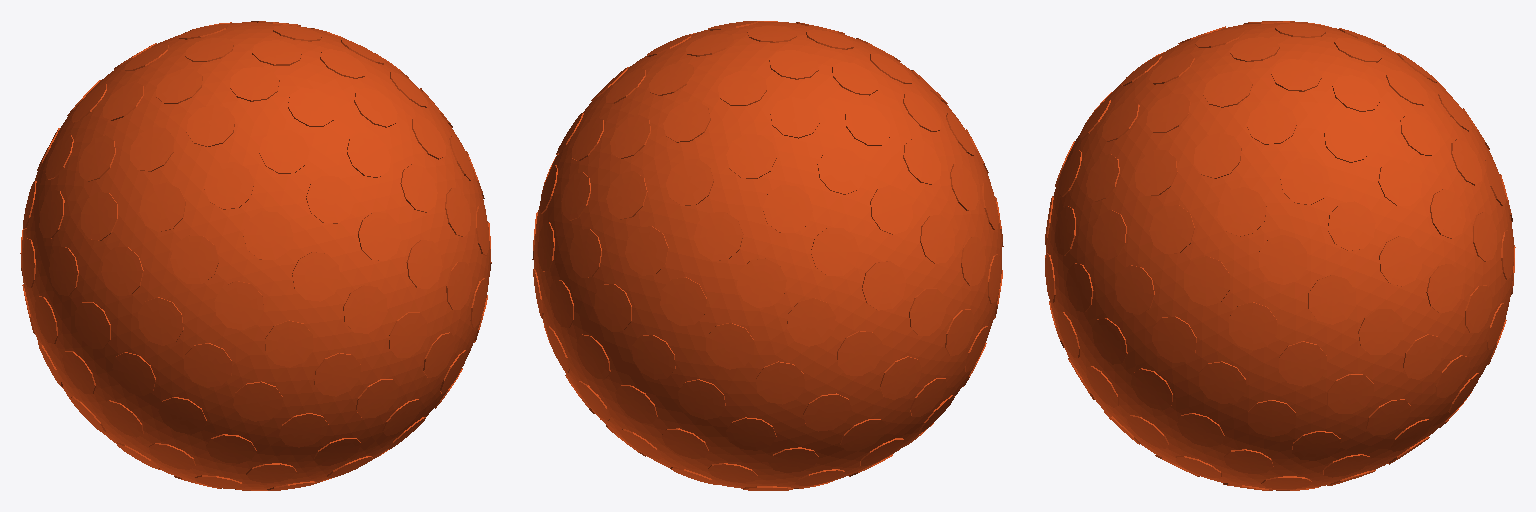
robot.urdf — cb_spikyball_spiky_flat:
<?xml version="1.0"?>
<!-- A22 textured ball (dome, 150 features, h 0.05 mm), outer R 24.0 mm, 30.0 g. Generated by FoundationTouch tools/contactbench/spikyball_assets.py (A22) -->
<robot name="cb_spikyball_spiky_flat">
  <material name="c"><color rgba="0.85 0.35 0.15 1.0"/></material>
  <link name="object">
    <visual><origin xyz="0 0 0" rpy="0 0 0"/><geometry><mesh filename="spikyball_spiky_flat.obj" scale="1 1 1"/></geometry><material name="c"/></visual>
    <collision><origin xyz="0 0 0" rpy="0 0 0"/><geometry><sphere radius="0.023950"/></geometry></collision>
    <collision><origin xyz="0 0 0" rpy="0 0 0"/><geometry><mesh filename="spike_000.obj" scale="1 1 1"/></geometry></collision>
    <collision><origin xyz="0 0 0" rpy="0 0 0"/><geometry><mesh filename="spike_001.obj" scale="1 1 1"/></geometry></collision>
    <collision><origin xyz="0 0 0" rpy="0 0 0"/><geometry><mesh filename="spike_002.obj" scale="1 1 1"/></geometry></collision>
    <collision><origin xyz="0 0 0" rpy="0 0 0"/><geometry><mesh filename="spike_003.obj" scale="1 1 1"/></geometry></collision>
    <collision><origin xyz="0 0 0" rpy="0 0 0"/><geometry><mesh filename="spike_004.obj" scale="1 1 1"/></geometry></collision>
    <collision><origin xyz="0 0 0" rpy="0 0 0"/><geometry><mesh filename="spike_005.obj" scale="1 1 1"/></geometry></collision>
    <collision><origin xyz="0 0 0" rpy="0 0 0"/><geometry><mesh filename="spike_006.obj" scale="1 1 1"/></geometry></collision>
    <collision><origin xyz="0 0 0" rpy="0 0 0"/><geometry><mesh filename="spike_007.obj" scale="1 1 1"/></geometry></collision>
    <collision><origin xyz="0 0 0" rpy="0 0 0"/><geometry><mesh filename="spike_008.obj" scale="1 1 1"/></geometry></collision>
    <collision><origin xyz="0 0 0" rpy="0 0 0"/><geometry><mesh filename="spike_009.obj" scale="1 1 1"/></geometry></collision>
    <collision><origin xyz="0 0 0" rpy="0 0 0"/><geometry><mesh filename="spike_010.obj" scale="1 1 1"/></geometry></collision>
    <collision><origin xyz="0 0 0" rpy="0 0 0"/><geometry><mesh filename="spike_011.obj" scale="1 1 1"/></geometry></collision>
    <collision><origin xyz="0 0 0" rpy="0 0 0"/><geometry><mesh filename="spike_012.obj" scale="1 1 1"/></geometry></collision>
    <collision><origin xyz="0 0 0" rpy="0 0 0"/><geometry><mesh filename="spike_013.obj" scale="1 1 1"/></geometry></collision>
    <collision><origin xyz="0 0 0" rpy="0 0 0"/><geometry><mesh filename="spike_014.obj" scale="1 1 1"/></geometry></collision>
    <collision><origin xyz="0 0 0" rpy="0 0 0"/><geometry><mesh filename="spike_015.obj" scale="1 1 1"/></geometry></collision>
    <collision><origin xyz="0 0 0" rpy="0 0 0"/><geometry><mesh filename="spike_016.obj" scale="1 1 1"/></geometry></collision>
    <collision><origin xyz="0 0 0" rpy="0 0 0"/><geometry><mesh filename="spike_017.obj" scale="1 1 1"/></geometry></collision>
    <collision><origin xyz="0 0 0" rpy="0 0 0"/><geometry><mesh filename="spike_018.obj" scale="1 1 1"/></geometry></collision>
    <collision><origin xyz="0 0 0" rpy="0 0 0"/><geometry><mesh filename="spike_019.obj" scale="1 1 1"/></geometry></collision>
    <collision><origin xyz="0 0 0" rpy="0 0 0"/><geometry><mesh filename="spike_020.obj" scale="1 1 1"/></geometry></collision>
    <collision><origin xyz="0 0 0" rpy="0 0 0"/><geometry><mesh filename="spike_021.obj" scale="1 1 1"/></geometry></collision>
    <collision><origin xyz="0 0 0" rpy="0 0 0"/><geometry><mesh filename="spike_022.obj" scale="1 1 1"/></geometry></collision>
    <collision><origin xyz="0 0 0" rpy="0 0 0"/><geometry><mesh filename="spike_023.obj" scale="1 1 1"/></geometry></collision>
    <collision><origin xyz="0 0 0" rpy="0 0 0"/><geometry><mesh filename="spike_024.obj" scale="1 1 1"/></geometry></collision>
    <collision><origin xyz="0 0 0" rpy="0 0 0"/><geometry><mesh filename="spike_025.obj" scale="1 1 1"/></geometry></collision>
    <collision><origin xyz="0 0 0" rpy="0 0 0"/><geometry><mesh filename="spike_026.obj" scale="1 1 1"/></geometry></collision>
    <collision><origin xyz="0 0 0" rpy="0 0 0"/><geometry><mesh filename="spike_027.obj" scale="1 1 1"/></geometry></collision>
    <collision><origin xyz="0 0 0" rpy="0 0 0"/><geometry><mesh filename="spike_028.obj" scale="1 1 1"/></geometry></collision>
    <collision><origin xyz="0 0 0" rpy="0 0 0"/><geometry><mesh filename="spike_029.obj" scale="1 1 1"/></geometry></collision>
    <collision><origin xyz="0 0 0" rpy="0 0 0"/><geometry><mesh filename="spike_030.obj" scale="1 1 1"/></geometry></collision>
    <collision><origin xyz="0 0 0" rpy="0 0 0"/><geometry><mesh filename="spike_031.obj" scale="1 1 1"/></geometry></collision>
    <collision><origin xyz="0 0 0" rpy="0 0 0"/><geometry><mesh filename="spike_032.obj" scale="1 1 1"/></geometry></collision>
    <collision><origin xyz="0 0 0" rpy="0 0 0"/><geometry><mesh filename="spike_033.obj" scale="1 1 1"/></geometry></collision>
    <collision><origin xyz="0 0 0" rpy="0 0 0"/><geometry><mesh filename="spike_034.obj" scale="1 1 1"/></geometry></collision>
    <collision><origin xyz="0 0 0" rpy="0 0 0"/><geometry><mesh filename="spike_035.obj" scale="1 1 1"/></geometry></collision>
    <collision><origin xyz="0 0 0" rpy="0 0 0"/><geometry><mesh filename="spike_036.obj" scale="1 1 1"/></geometry></collision>
    <collision><origin xyz="0 0 0" rpy="0 0 0"/><geometry><mesh filename="spike_037.obj" scale="1 1 1"/></geometry></collision>
    <collision><origin xyz="0 0 0" rpy="0 0 0"/><geometry><mesh filename="spike_038.obj" scale="1 1 1"/></geometry></collision>
    <collision><origin xyz="0 0 0" rpy="0 0 0"/><geometry><mesh filename="spike_039.obj" scale="1 1 1"/></geometry></collision>
    <collision><origin xyz="0 0 0" rpy="0 0 0"/><geometry><mesh filename="spike_040.obj" scale="1 1 1"/></geometry></collision>
    <collision><origin xyz="0 0 0" rpy="0 0 0"/><geometry><mesh filename="spike_041.obj" scale="1 1 1"/></geometry></collision>
    <collision><origin xyz="0 0 0" rpy="0 0 0"/><geometry><mesh filename="spike_042.obj" scale="1 1 1"/></geometry></collision>
    <collision><origin xyz="0 0 0" rpy="0 0 0"/><geometry><mesh filename="spike_043.obj" scale="1 1 1"/></geometry></collision>
    <collision><origin xyz="0 0 0" rpy="0 0 0"/><geometry><mesh filename="spike_044.obj" scale="1 1 1"/></geometry></collision>
    <collision><origin xyz="0 0 0" rpy="0 0 0"/><geometry><mesh filename="spike_045.obj" scale="1 1 1"/></geometry></collision>
    <collision><origin xyz="0 0 0" rpy="0 0 0"/><geometry><mesh filename="spike_046.obj" scale="1 1 1"/></geometry></collision>
    <collision><origin xyz="0 0 0" rpy="0 0 0"/><geometry><mesh filename="spike_047.obj" scale="1 1 1"/></geometry></collision>
    <collision><origin xyz="0 0 0" rpy="0 0 0"/><geometry><mesh filename="spike_048.obj" scale="1 1 1"/></geometry></collision>
    <collision><origin xyz="0 0 0" rpy="0 0 0"/><geometry><mesh filename="spike_049.obj" scale="1 1 1"/></geometry></collision>
    <collision><origin xyz="0 0 0" rpy="0 0 0"/><geometry><mesh filename="spike_050.obj" scale="1 1 1"/></geometry></collision>
    <collision><origin xyz="0 0 0" rpy="0 0 0"/><geometry><mesh filename="spike_051.obj" scale="1 1 1"/></geometry></collision>
    <collision><origin xyz="0 0 0" rpy="0 0 0"/><geometry><mesh filename="spike_052.obj" scale="1 1 1"/></geometry></collision>
    <collision><origin xyz="0 0 0" rpy="0 0 0"/><geometry><mesh filename="spike_053.obj" scale="1 1 1"/></geometry></collision>
    <collision><origin xyz="0 0 0" rpy="0 0 0"/><geometry><mesh filename="spike_054.obj" scale="1 1 1"/></geometry></collision>
    <collision><origin xyz="0 0 0" rpy="0 0 0"/><geometry><mesh filename="spike_055.obj" scale="1 1 1"/></geometry></collision>
    <collision><origin xyz="0 0 0" rpy="0 0 0"/><geometry><mesh filename="spike_056.obj" scale="1 1 1"/></geometry></collision>
    <collision><origin xyz="0 0 0" rpy="0 0 0"/><geometry><mesh filename="spike_057.obj" scale="1 1 1"/></geometry></collision>
    <collision><origin xyz="0 0 0" rpy="0 0 0"/><geometry><mesh filename="spike_058.obj" scale="1 1 1"/></geometry></collision>
    <collision><origin xyz="0 0 0" rpy="0 0 0"/><geometry><mesh filename="spike_059.obj" scale="1 1 1"/></geometry></collision>
    <collision><origin xyz="0 0 0" rpy="0 0 0"/><geometry><mesh filename="spike_060.obj" scale="1 1 1"/></geometry></collision>
    <collision><origin xyz="0 0 0" rpy="0 0 0"/><geometry><mesh filename="spike_061.obj" scale="1 1 1"/></geometry></collision>
    <collision><origin xyz="0 0 0" rpy="0 0 0"/><geometry><mesh filename="spike_062.obj" scale="1 1 1"/></geometry></collision>
    <collision><origin xyz="0 0 0" rpy="0 0 0"/><geometry><mesh filename="spike_063.obj" scale="1 1 1"/></geometry></collision>
    <collision><origin xyz="0 0 0" rpy="0 0 0"/><geometry><mesh filename="spike_064.obj" scale="1 1 1"/></geometry></collision>
    <collision><origin xyz="0 0 0" rpy="0 0 0"/><geometry><mesh filename="spike_065.obj" scale="1 1 1"/></geometry></collision>
    <collision><origin xyz="0 0 0" rpy="0 0 0"/><geometry><mesh filename="spike_066.obj" scale="1 1 1"/></geometry></collision>
    <collision><origin xyz="0 0 0" rpy="0 0 0"/><geometry><mesh filename="spike_067.obj" scale="1 1 1"/></geometry></collision>
    <collision><origin xyz="0 0 0" rpy="0 0 0"/><geometry><mesh filename="spike_068.obj" scale="1 1 1"/></geometry></collision>
    <collision><origin xyz="0 0 0" rpy="0 0 0"/><geometry><mesh filename="spike_069.obj" scale="1 1 1"/></geometry></collision>
    <collision><origin xyz="0 0 0" rpy="0 0 0"/><geometry><mesh filename="spike_070.obj" scale="1 1 1"/></geometry></collision>
    <collision><origin xyz="0 0 0" rpy="0 0 0"/><geometry><mesh filename="spike_071.obj" scale="1 1 1"/></geometry></collision>
    <collision><origin xyz="0 0 0" rpy="0 0 0"/><geometry><mesh filename="spike_072.obj" scale="1 1 1"/></geometry></collision>
    <collision><origin xyz="0 0 0" rpy="0 0 0"/><geometry><mesh filename="spike_073.obj" scale="1 1 1"/></geometry></collision>
    <collision><origin xyz="0 0 0" rpy="0 0 0"/><geometry><mesh filename="spike_074.obj" scale="1 1 1"/></geometry></collision>
    <collision><origin xyz="0 0 0" rpy="0 0 0"/><geometry><mesh filename="spike_075.obj" scale="1 1 1"/></geometry></collision>
    <collision><origin xyz="0 0 0" rpy="0 0 0"/><geometry><mesh filename="spike_076.obj" scale="1 1 1"/></geometry></collision>
    <collision><origin xyz="0 0 0" rpy="0 0 0"/><geometry><mesh filename="spike_077.obj" scale="1 1 1"/></geometry></collision>
    <collision><origin xyz="0 0 0" rpy="0 0 0"/><geometry><mesh filename="spike_078.obj" scale="1 1 1"/></geometry></collision>
    <collision><origin xyz="0 0 0" rpy="0 0 0"/><geometry><mesh filename="spike_079.obj" scale="1 1 1"/></geometry></collision>
    <collision><origin xyz="0 0 0" rpy="0 0 0"/><geometry><mesh filename="spike_080.obj" scale="1 1 1"/></geometry></collision>
    <collision><origin xyz="0 0 0" rpy="0 0 0"/><geometry><mesh filename="spike_081.obj" scale="1 1 1"/></geometry></collision>
    <collision><origin xyz="0 0 0" rpy="0 0 0"/><geometry><mesh filename="spike_082.obj" scale="1 1 1"/></geometry></collision>
    <collision><origin xyz="0 0 0" rpy="0 0 0"/><geometry><mesh filename="spike_083.obj" scale="1 1 1"/></geometry></collision>
    <collision><origin xyz="0 0 0" rpy="0 0 0"/><geometry><mesh filename="spike_084.obj" scale="1 1 1"/></geometry></collision>
    <collision><origin xyz="0 0 0" rpy="0 0 0"/><geometry><mesh filename="spike_085.obj" scale="1 1 1"/></geometry></collision>
    <collision><origin xyz="0 0 0" rpy="0 0 0"/><geometry><mesh filename="spike_086.obj" scale="1 1 1"/></geometry></collision>
    <collision><origin xyz="0 0 0" rpy="0 0 0"/><geometry><mesh filename="spike_087.obj" scale="1 1 1"/></geometry></collision>
    <collision><origin xyz="0 0 0" rpy="0 0 0"/><geometry><mesh filename="spike_088.obj" scale="1 1 1"/></geometry></collision>
    <collision><origin xyz="0 0 0" rpy="0 0 0"/><geometry><mesh filename="spike_089.obj" scale="1 1 1"/></geometry></collision>
    <collision><origin xyz="0 0 0" rpy="0 0 0"/><geometry><mesh filename="spike_090.obj" scale="1 1 1"/></geometry></collision>
    <collision><origin xyz="0 0 0" rpy="0 0 0"/><geometry><mesh filename="spike_091.obj" scale="1 1 1"/></geometry></collision>
    <collision><origin xyz="0 0 0" rpy="0 0 0"/><geometry><mesh filename="spike_092.obj" scale="1 1 1"/></geometry></collision>
    <collision><origin xyz="0 0 0" rpy="0 0 0"/><geometry><mesh filename="spike_093.obj" scale="1 1 1"/></geometry></collision>
    <collision><origin xyz="0 0 0" rpy="0 0 0"/><geometry><mesh filename="spike_094.obj" scale="1 1 1"/></geometry></collision>
    <collision><origin xyz="0 0 0" rpy="0 0 0"/><geometry><mesh filename="spike_095.obj" scale="1 1 1"/></geometry></collision>
    <collision><origin xyz="0 0 0" rpy="0 0 0"/><geometry><mesh filename="spike_096.obj" scale="1 1 1"/></geometry></collision>
    <collision><origin xyz="0 0 0" rpy="0 0 0"/><geometry><mesh filename="spike_097.obj" scale="1 1 1"/></geometry></collision>
    <collision><origin xyz="0 0 0" rpy="0 0 0"/><geometry><mesh filename="spike_098.obj" scale="1 1 1"/></geometry></collision>
    <collision><origin xyz="0 0 0" rpy="0 0 0"/><geometry><mesh filename="spike_099.obj" scale="1 1 1"/></geometry></collision>
    <collision><origin xyz="0 0 0" rpy="0 0 0"/><geometry><mesh filename="spike_100.obj" scale="1 1 1"/></geometry></collision>
    <collision><origin xyz="0 0 0" rpy="0 0 0"/><geometry><mesh filename="spike_101.obj" scale="1 1 1"/></geometry></collision>
    <collision><origin xyz="0 0 0" rpy="0 0 0"/><geometry><mesh filename="spike_102.obj" scale="1 1 1"/></geometry></collision>
    <collision><origin xyz="0 0 0" rpy="0 0 0"/><geometry><mesh filename="spike_103.obj" scale="1 1 1"/></geometry></collision>
    <collision><origin xyz="0 0 0" rpy="0 0 0"/><geometry><mesh filename="spike_104.obj" scale="1 1 1"/></geometry></collision>
    <collision><origin xyz="0 0 0" rpy="0 0 0"/><geometry><mesh filename="spike_105.obj" scale="1 1 1"/></geometry></collision>
    <collision><origin xyz="0 0 0" rpy="0 0 0"/><geometry><mesh filename="spike_106.obj" scale="1 1 1"/></geometry></collision>
    <collision><origin xyz="0 0 0" rpy="0 0 0"/><geometry><mesh filename="spike_107.obj" scale="1 1 1"/></geometry></collision>
    <collision><origin xyz="0 0 0" rpy="0 0 0"/><geometry><mesh filename="spike_108.obj" scale="1 1 1"/></geometry></collision>
    <collision><origin xyz="0 0 0" rpy="0 0 0"/><geometry><mesh filename="spike_109.obj" scale="1 1 1"/></geometry></collision>
    <collision><origin xyz="0 0 0" rpy="0 0 0"/><geometry><mesh filename="spike_110.obj" scale="1 1 1"/></geometry></collision>
    <collision><origin xyz="0 0 0" rpy="0 0 0"/><geometry><mesh filename="spike_111.obj" scale="1 1 1"/></geometry></collision>
    <collision><origin xyz="0 0 0" rpy="0 0 0"/><geometry><mesh filename="spike_112.obj" scale="1 1 1"/></geometry></collision>
    <collision><origin xyz="0 0 0" rpy="0 0 0"/><geometry><mesh filename="spike_113.obj" scale="1 1 1"/></geometry></collision>
    <collision><origin xyz="0 0 0" rpy="0 0 0"/><geometry><mesh filename="spike_114.obj" scale="1 1 1"/></geometry></collision>
    <collision><origin xyz="0 0 0" rpy="0 0 0"/><geometry><mesh filename="spike_115.obj" scale="1 1 1"/></geometry></collision>
    <collision><origin xyz="0 0 0" rpy="0 0 0"/><geometry><mesh filename="spike_116.obj" scale="1 1 1"/></geometry></collision>
    <collision><origin xyz="0 0 0" rpy="0 0 0"/><geometry><mesh filename="spike_117.obj" scale="1 1 1"/></geometry></collision>
    <collision><origin xyz="0 0 0" rpy="0 0 0"/><geometry><mesh filename="spike_118.obj" scale="1 1 1"/></geometry></collision>
    <collision><origin xyz="0 0 0" rpy="0 0 0"/><geometry><mesh filename="spike_119.obj" scale="1 1 1"/></geometry></collision>
    <collision><origin xyz="0 0 0" rpy="0 0 0"/><geometry><mesh filename="spike_120.obj" scale="1 1 1"/></geometry></collision>
    <collision><origin xyz="0 0 0" rpy="0 0 0"/><geometry><mesh filename="spike_121.obj" scale="1 1 1"/></geometry></collision>
    <collision><origin xyz="0 0 0" rpy="0 0 0"/><geometry><mesh filename="spike_122.obj" scale="1 1 1"/></geometry></collision>
    <collision><origin xyz="0 0 0" rpy="0 0 0"/><geometry><mesh filename="spike_123.obj" scale="1 1 1"/></geometry></collision>
    <collision><origin xyz="0 0 0" rpy="0 0 0"/><geometry><mesh filename="spike_124.obj" scale="1 1 1"/></geometry></collision>
    <collision><origin xyz="0 0 0" rpy="0 0 0"/><geometry><mesh filename="spike_125.obj" scale="1 1 1"/></geometry></collision>
    <collision><origin xyz="0 0 0" rpy="0 0 0"/><geometry><mesh filename="spike_126.obj" scale="1 1 1"/></geometry></collision>
    <collision><origin xyz="0 0 0" rpy="0 0 0"/><geometry><mesh filename="spike_127.obj" scale="1 1 1"/></geometry></collision>
    <collision><origin xyz="0 0 0" rpy="0 0 0"/><geometry><mesh filename="spike_128.obj" scale="1 1 1"/></geometry></collision>
    <collision><origin xyz="0 0 0" rpy="0 0 0"/><geometry><mesh filename="spike_129.obj" scale="1 1 1"/></geometry></collision>
    <collision><origin xyz="0 0 0" rpy="0 0 0"/><geometry><mesh filename="spike_130.obj" scale="1 1 1"/></geometry></collision>
    <collision><origin xyz="0 0 0" rpy="0 0 0"/><geometry><mesh filename="spike_131.obj" scale="1 1 1"/></geometry></collision>
    <collision><origin xyz="0 0 0" rpy="0 0 0"/><geometry><mesh filename="spike_132.obj" scale="1 1 1"/></geometry></collision>
    <collision><origin xyz="0 0 0" rpy="0 0 0"/><geometry><mesh filename="spike_133.obj" scale="1 1 1"/></geometry></collision>
    <collision><origin xyz="0 0 0" rpy="0 0 0"/><geometry><mesh filename="spike_134.obj" scale="1 1 1"/></geometry></collision>
    <collision><origin xyz="0 0 0" rpy="0 0 0"/><geometry><mesh filename="spike_135.obj" scale="1 1 1"/></geometry></collision>
    <collision><origin xyz="0 0 0" rpy="0 0 0"/><geometry><mesh filename="spike_136.obj" scale="1 1 1"/></geometry></collision>
    <collision><origin xyz="0 0 0" rpy="0 0 0"/><geometry><mesh filename="spike_137.obj" scale="1 1 1"/></geometry></collision>
    <collision><origin xyz="0 0 0" rpy="0 0 0"/><geometry><mesh filename="spike_138.obj" scale="1 1 1"/></geometry></collision>
    <collision><origin xyz="0 0 0" rpy="0 0 0"/><geometry><mesh filename="spike_139.obj" scale="1 1 1"/></geometry></collision>
    <collision><origin xyz="0 0 0" rpy="0 0 0"/><geometry><mesh filename="spike_140.obj" scale="1 1 1"/></geometry></collision>
    <collision><origin xyz="0 0 0" rpy="0 0 0"/><geometry><mesh filename="spike_141.obj" scale="1 1 1"/></geometry></collision>
    <collision><origin xyz="0 0 0" rpy="0 0 0"/><geometry><mesh filename="spike_142.obj" scale="1 1 1"/></geometry></collision>
    <collision><origin xyz="0 0 0" rpy="0 0 0"/><geometry><mesh filename="spike_143.obj" scale="1 1 1"/></geometry></collision>
    <collision><origin xyz="0 0 0" rpy="0 0 0"/><geometry><mesh filename="spike_144.obj" scale="1 1 1"/></geometry></collision>
    <collision><origin xyz="0 0 0" rpy="0 0 0"/><geometry><mesh filename="spike_145.obj" scale="1 1 1"/></geometry></collision>
    <collision><origin xyz="0 0 0" rpy="0 0 0"/><geometry><mesh filename="spike_146.obj" scale="1 1 1"/></geometry></collision>
    <collision><origin xyz="0 0 0" rpy="0 0 0"/><geometry><mesh filename="spike_147.obj" scale="1 1 1"/></geometry></collision>
    <collision><origin xyz="0 0 0" rpy="0 0 0"/><geometry><mesh filename="spike_148.obj" scale="1 1 1"/></geometry></collision>
    <collision><origin xyz="0 0 0" rpy="0 0 0"/><geometry><mesh filename="spike_149.obj" scale="1 1 1"/></geometry></collision>
    <inertial><mass value="0.030000"/><origin xyz="0 0 0" rpy="0 0 0"/><inertia ixx="6.912000e-06" ixy="0" ixz="0" iyy="6.912000e-06" iyz="0" izz="6.912000e-06"/></inertial>
  </link>
</robot>

--- Render facts (derived) ---
The picture shows the robot from 3 angles, left to right: view 1: azimuth 30°, elevation 25°; view 2: azimuth 150°, elevation 25°; view 3: azimuth 270°, elevation 25°; orthographic projection.
Model cb_spikyball_spiky_flat with 1 links and 0 joints (none), rooted at object, posed every joint at zero.
Links seen in each view (by area): view 1: object; view 2: object; view 3: object.
Link boxes in pixels (x1,y1,x2,y2): object: [20, 21, 491, 490]; object: [532, 21, 1003, 490]; object: [1045, 21, 1515, 490].
Bounding box of the posed robot: 0.0482 × 0.0481 × 0.0482 m (x, y, z).
1 mesh visuals loaded from 1 distinct referenced files (1 OBJ).
